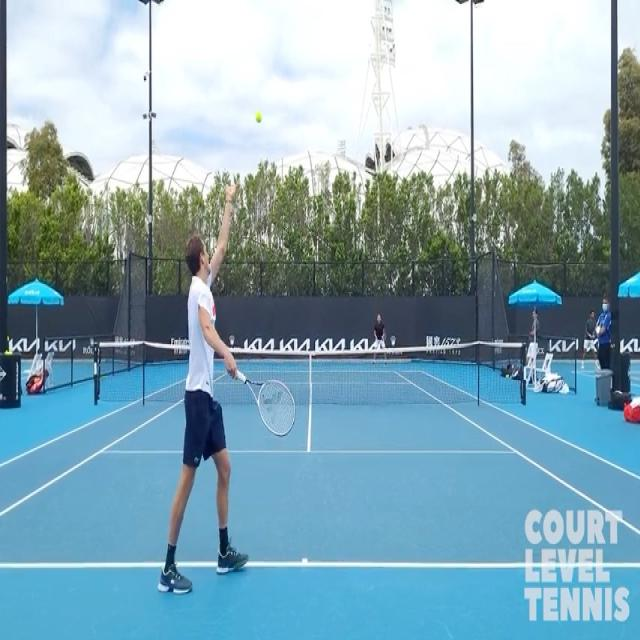serve_toss: (162, 188, 298, 588)
